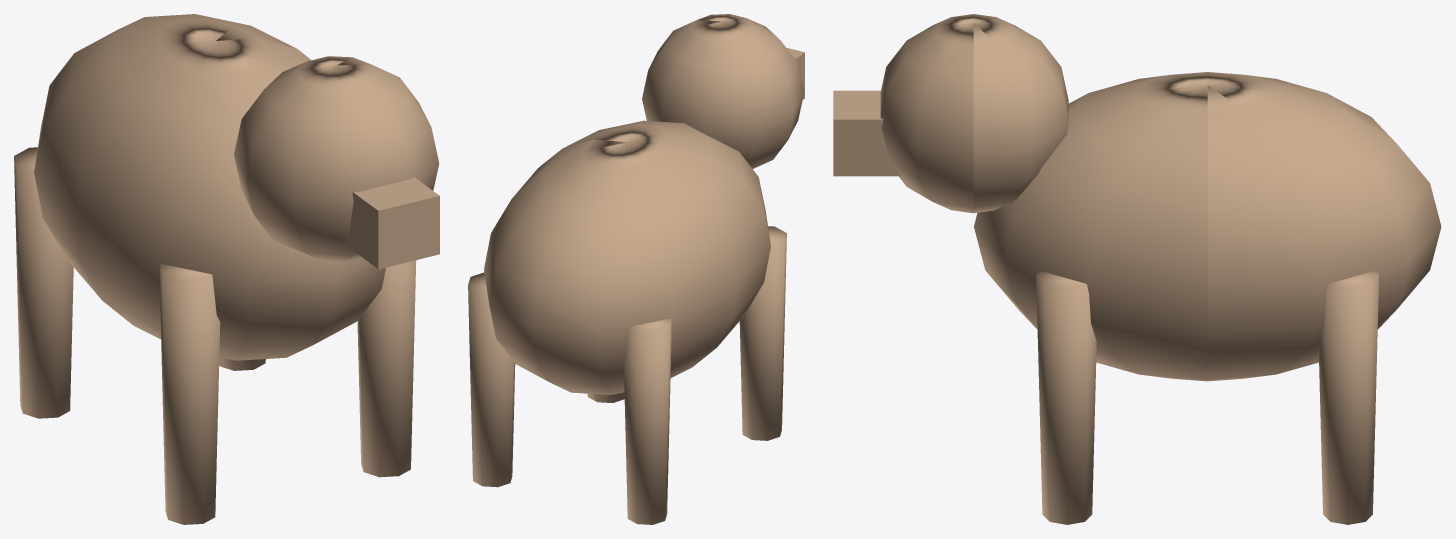
3 renders of one model, left to right at view 1: azimuth 30°, elevation 25°; view 2: azimuth 150°, elevation 25°; view 3: azimuth 270°, elevation 25°, orthographic. The views are drawn at different scales.
Parts seen in each view (by area): view 1: Generated3DMesh; view 2: Generated3DMesh; view 3: Generated3DMesh.
Boxes of the visible parts, <box> form: Generated3DMesh: <box>14,14,439,524</box>; Generated3DMesh: <box>468,14,804,524</box>; Generated3DMesh: <box>833,14,1441,524</box>.
Bounding box in the file's own units: 1 × 1.58 × 1.95.
